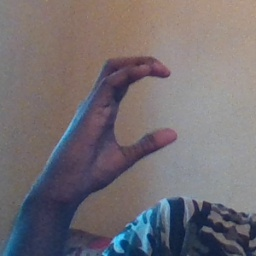C: (94, 51, 192, 175)
